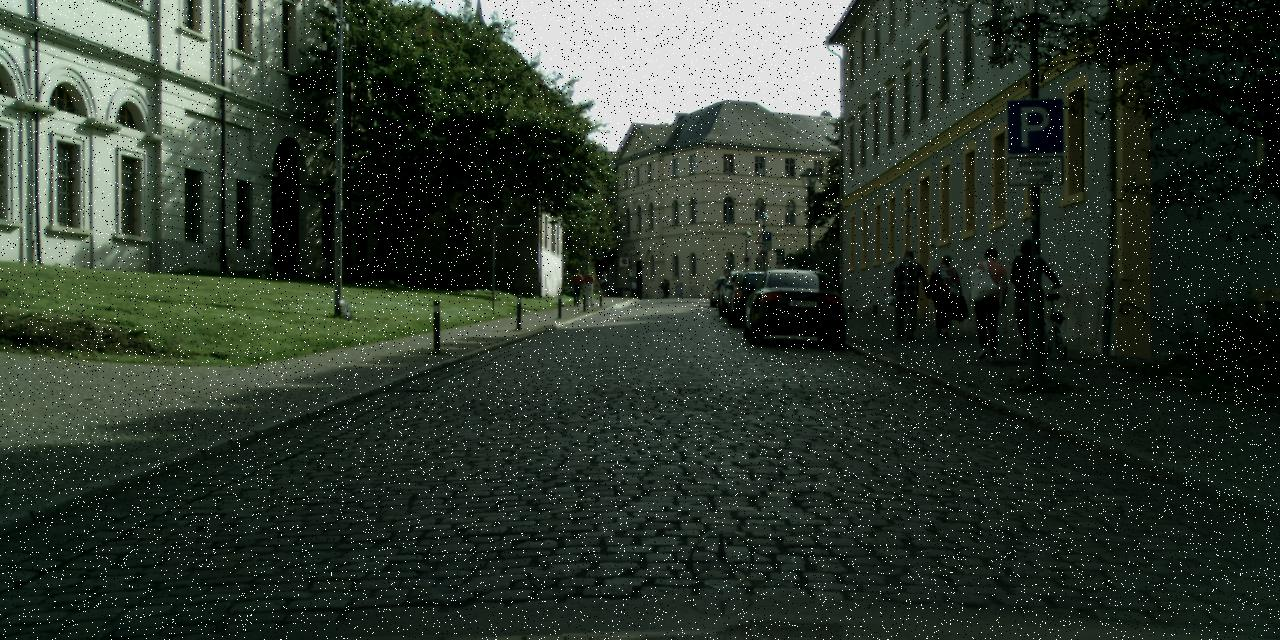ped: (1004, 239, 1052, 358), (966, 247, 1012, 360), (888, 250, 924, 338), (927, 254, 962, 338), (568, 269, 584, 306), (581, 270, 596, 306), (660, 278, 670, 300), (598, 270, 606, 292), (630, 279, 637, 296)
